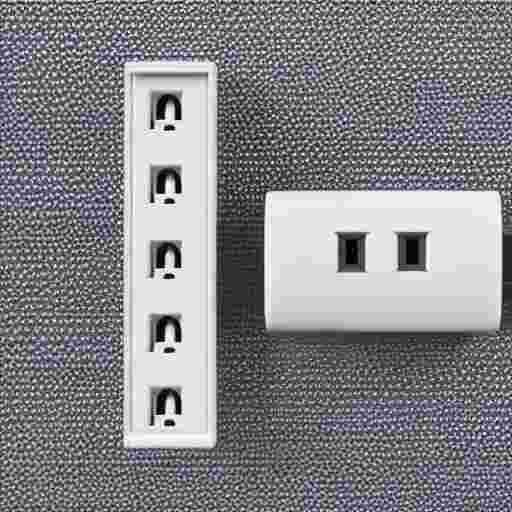power outlet: (124, 62, 216, 447), (265, 191, 501, 331)
